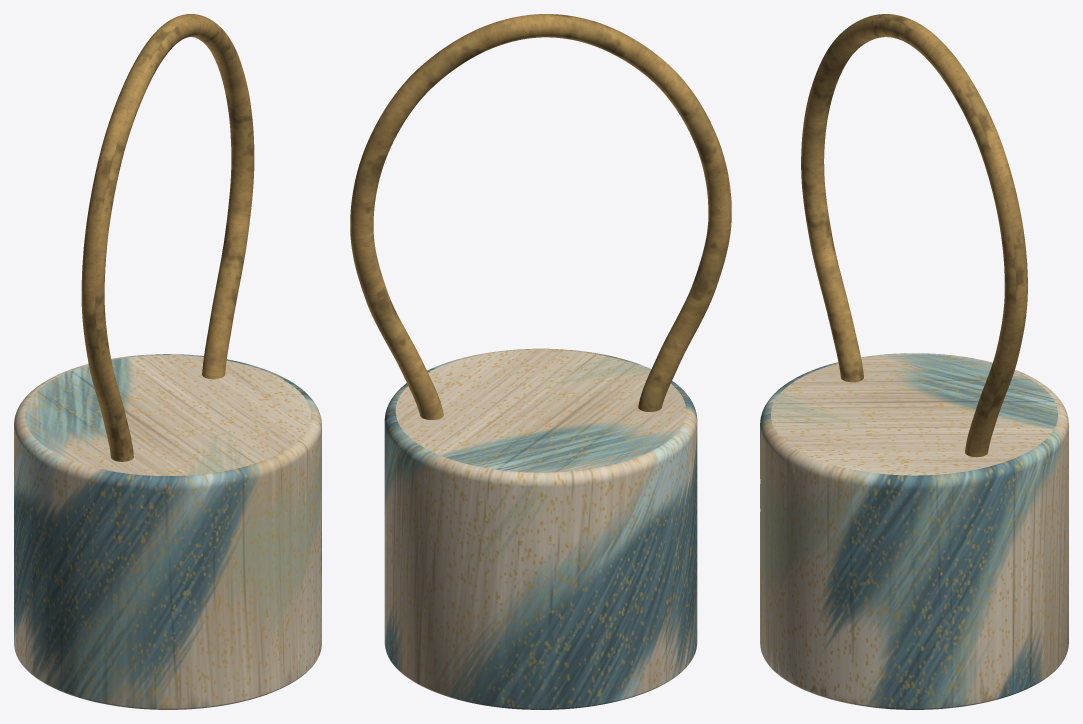
Rendered from rook-white-hd.glb.
3 renders of one model, left to right at view 1: azimuth 30°, elevation 25°; view 2: azimuth 150°, elevation 25°; view 3: azimuth 270°, elevation 25°, orthographic.
Visible parts, largest first — view 1: Telo, Oblouk; view 2: Telo, Oblouk; view 3: Telo, Oblouk.
Part boxes in pixels (left/top/right/bottom): Telo: left=14, top=354, right=321, bottom=709; Oblouk: left=81, top=14, right=254, bottom=461; Telo: left=384, top=348, right=697, bottom=709; Oblouk: left=350, top=14, right=731, bottom=419; Telo: left=760, top=353, right=1068, bottom=709; Oblouk: left=801, top=14, right=1027, bottom=457.
Bounding box in the file's own units: 0.6499 × 1.42 × 0.6389.
Materials: 2 (2 with a texture image).
